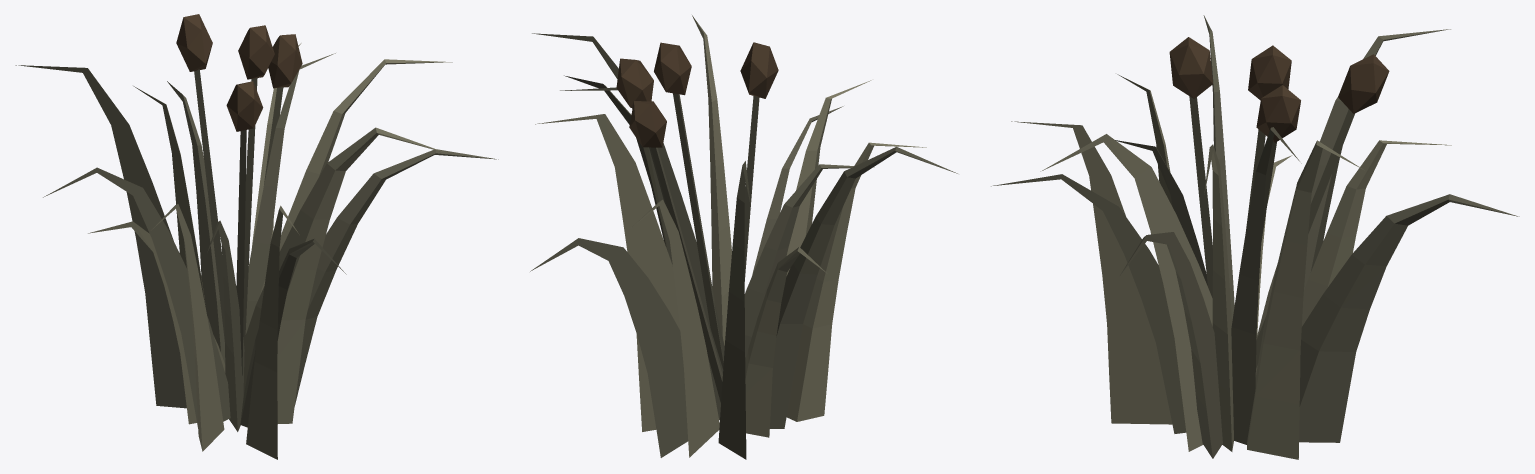
File: grass-clump-ash.glb
3 views of the same model, side by side, from view 1: azimuth 30°, elevation 25°; view 2: azimuth 150°, elevation 25°; view 3: azimuth 270°, elevation 25° (orthographic). The views are drawn at different scales.
Parts seen in each view (by area): view 1: Body_Leaves2, Body_Leaves, Body_SeedHeads; view 2: Body_Leaves2, Body_Leaves, Body_SeedHeads; view 3: Body_Leaves2, Body_Leaves, Body_SeedHeads.
Part boxes in pixels (left/top/right/bottom): Body_Leaves2: left=15, top=53, right=498, bottom=431; Body_Leaves: left=88, top=43, right=452, bottom=459; Body_SeedHeads: left=176, top=14, right=302, bottom=131; Body_Leaves2: left=530, top=75, right=957, bottom=459; Body_Leaves: left=532, top=15, right=926, bottom=457; Body_SeedHeads: left=616, top=42, right=778, bottom=147; Body_Leaves2: left=991, top=15, right=1519, bottom=458; Body_Leaves: left=1011, top=74, right=1451, bottom=459; Body_SeedHeads: left=1169, top=37, right=1389, bottom=142.
Size of the model in its own units: 0.57 by 0.48 by 0.57.
